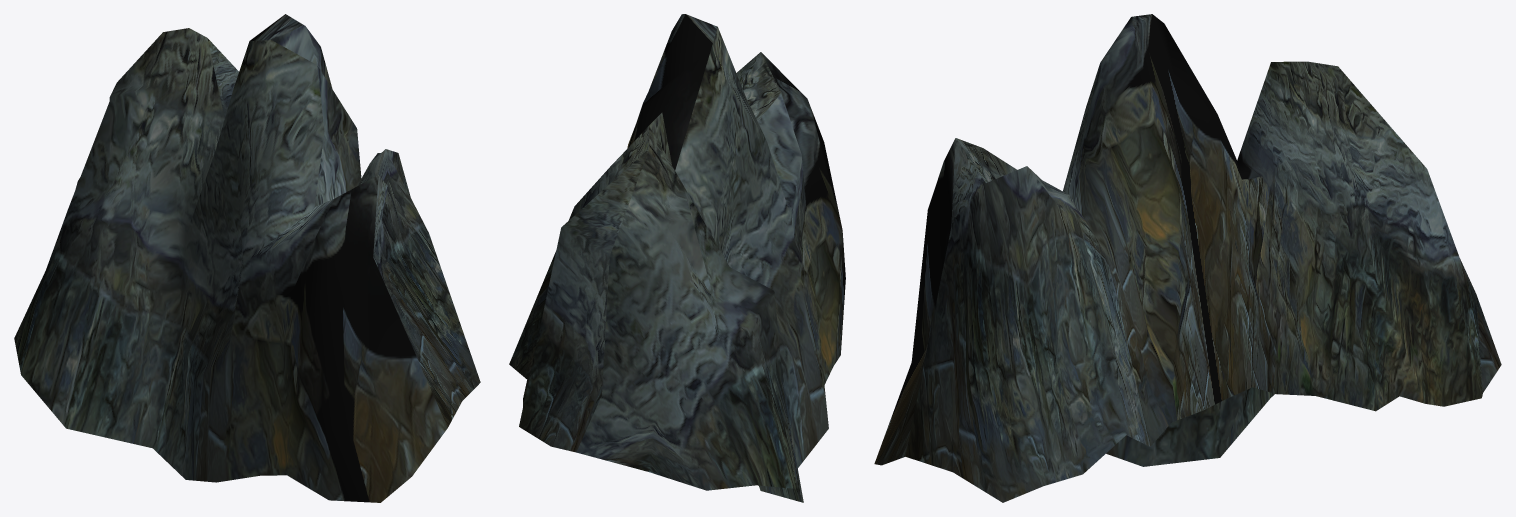
Rendered from Maincity_Strone_02.FBX.
3 views of the same model, side by side, from view 1: azimuth 30°, elevation 25°; view 2: azimuth 150°, elevation 25°; view 3: azimuth 270°, elevation 25° (orthographic). The views are drawn at different scales.
Parts seen in each view (by area): view 1: Maincity_Strone_02; view 2: Maincity_Strone_02; view 3: Maincity_Strone_02.
Boxes of the visible parts, bbox=[...] form: Maincity_Strone_02: bbox=[14, 14, 480, 502]; Maincity_Strone_02: bbox=[509, 14, 845, 502]; Maincity_Strone_02: bbox=[874, 14, 1501, 502].
Size of the model in its own units: 1674 by 2200 by 2442.
